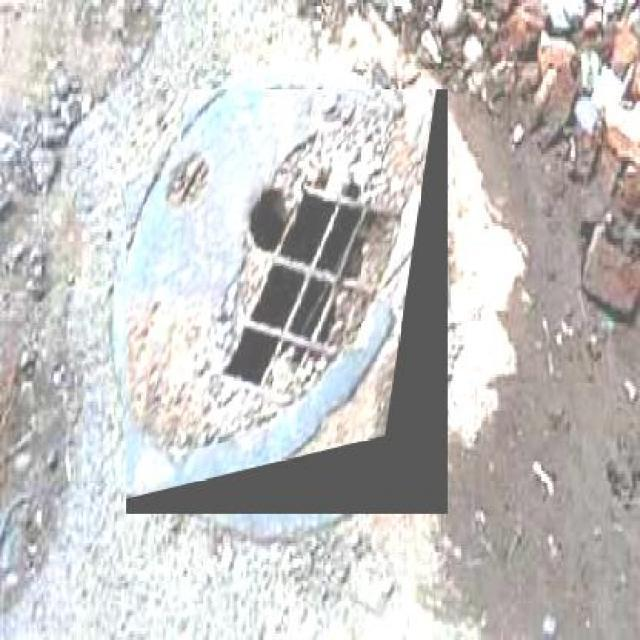Manhole: (126, 89, 448, 514)
